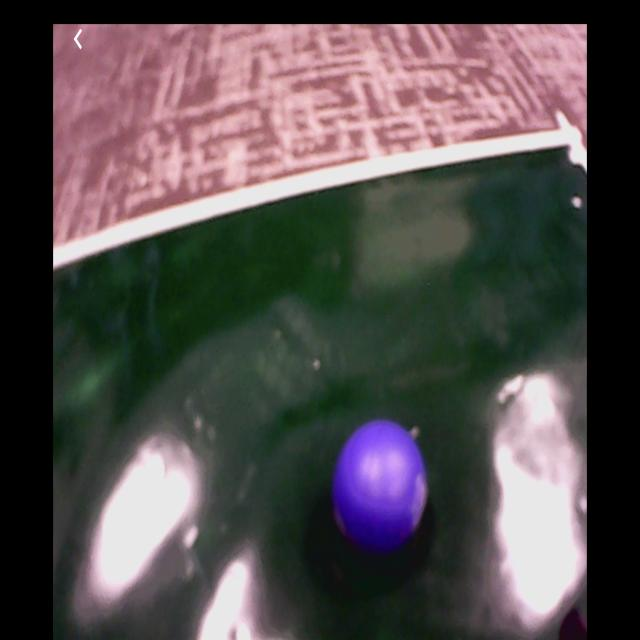ball: (336, 417, 424, 552)
